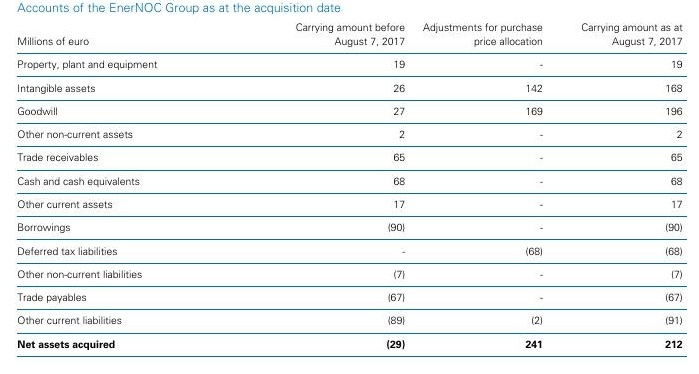table: (0, 0, 699, 374)
